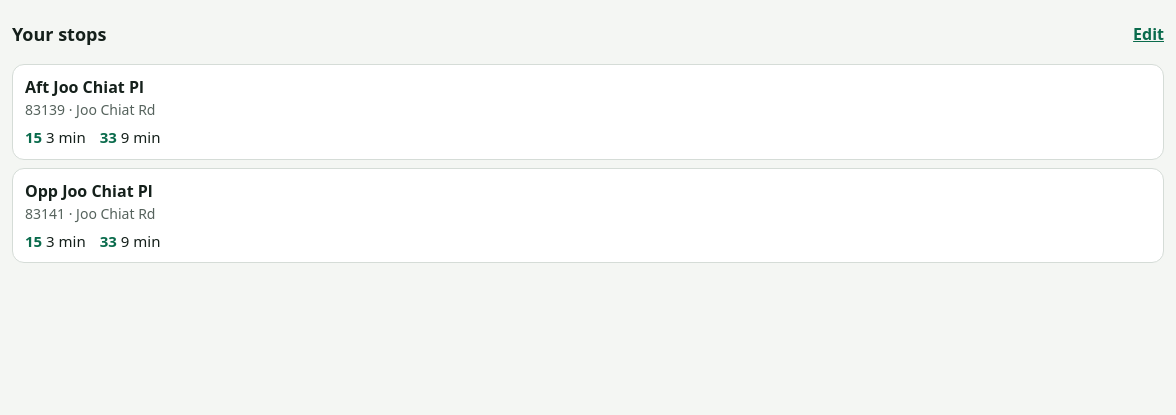
Test: FavouritesPanel › editing › removes a stop, and done goes back to live times
This screenshot has width=1176, height=415.
Click the button "Edit".
click(1149, 34)  # box [1133, 12, 1164, 56]
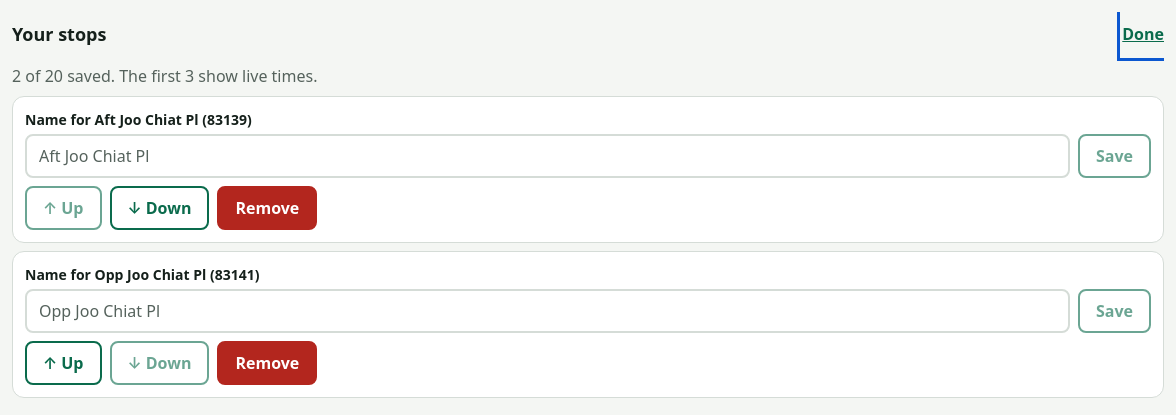
Click the button with aria-label "Remove Aft Joo Chiat Pl".
click(267, 208)  # box [217, 186, 317, 230]
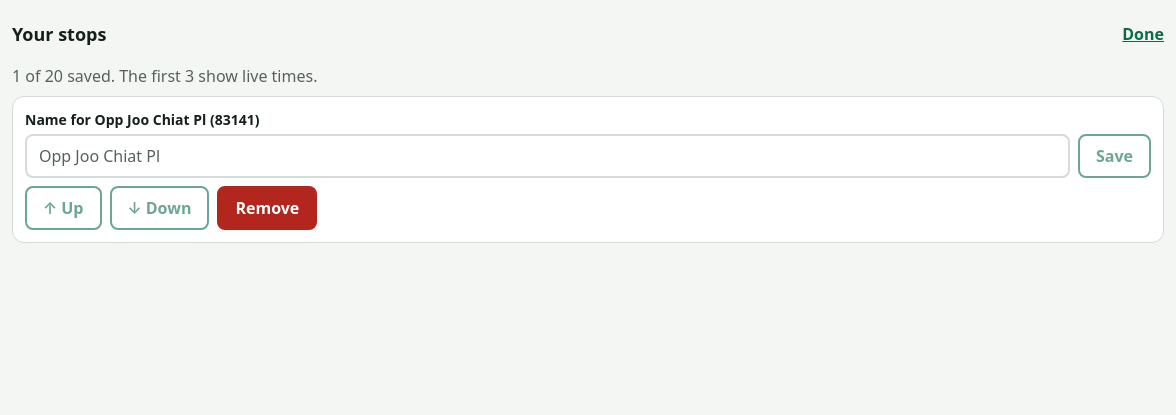
Expected: the text "1 of 20 saved. The first 3 show live times." is shown, [12, 65, 317, 87]
Click the button "Done".
click(1143, 34)  # box [1122, 12, 1164, 56]
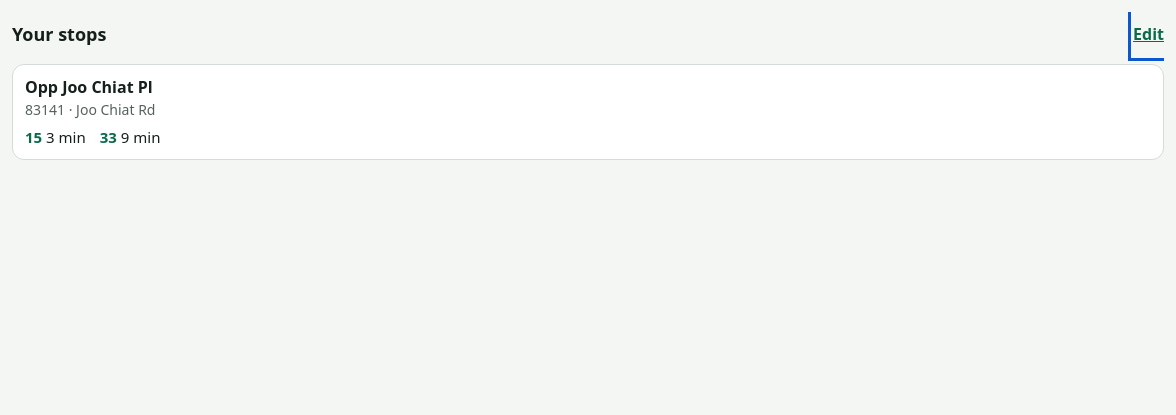
Expected: the link "Opp Joo Chiat Pl 83141 · Joo Chiat Rd 15 3 min 33 9 min" is shown, [25, 76, 160, 147]
